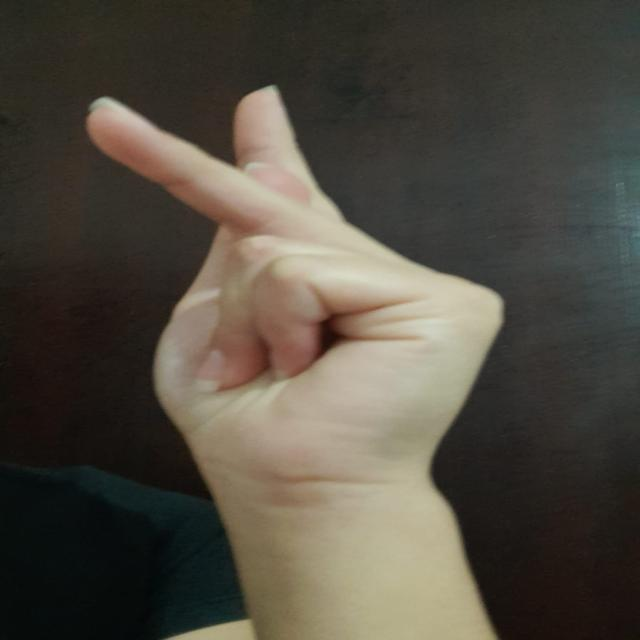K: (68, 70, 520, 484)
